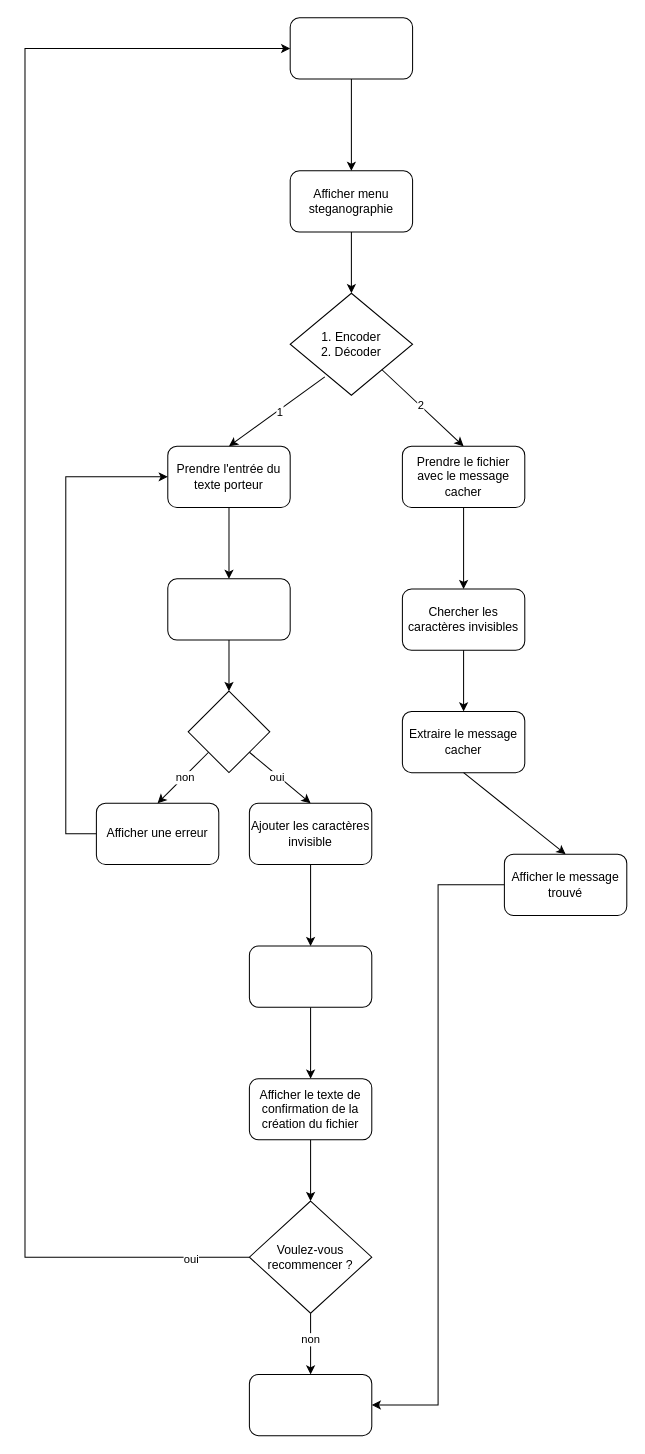
The diagram is 645 pixels wide and 1454 high, and some of its shapes have lost their labels. The shapes that lost their labels are listed below. From the top down, each one's box as (x1, y1, x2, y2) in pixels, then its label:
(289, 17, 413, 79): DEBUT
(167, 578, 290, 640): Définir le message secret
(187, 690, 270, 773): Entrée valide ?
(248, 945, 372, 1007): Sauvegarder le résultat dans un fichier txt
(248, 1373, 372, 1436): FIN
